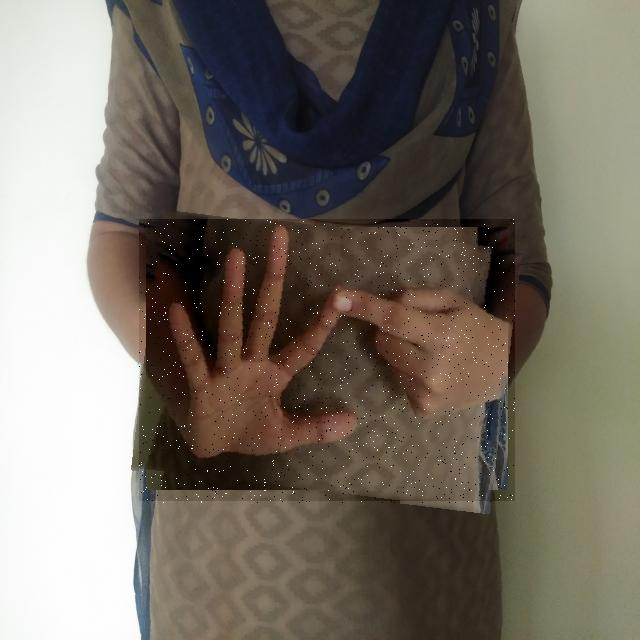E: (139, 220, 515, 503)
